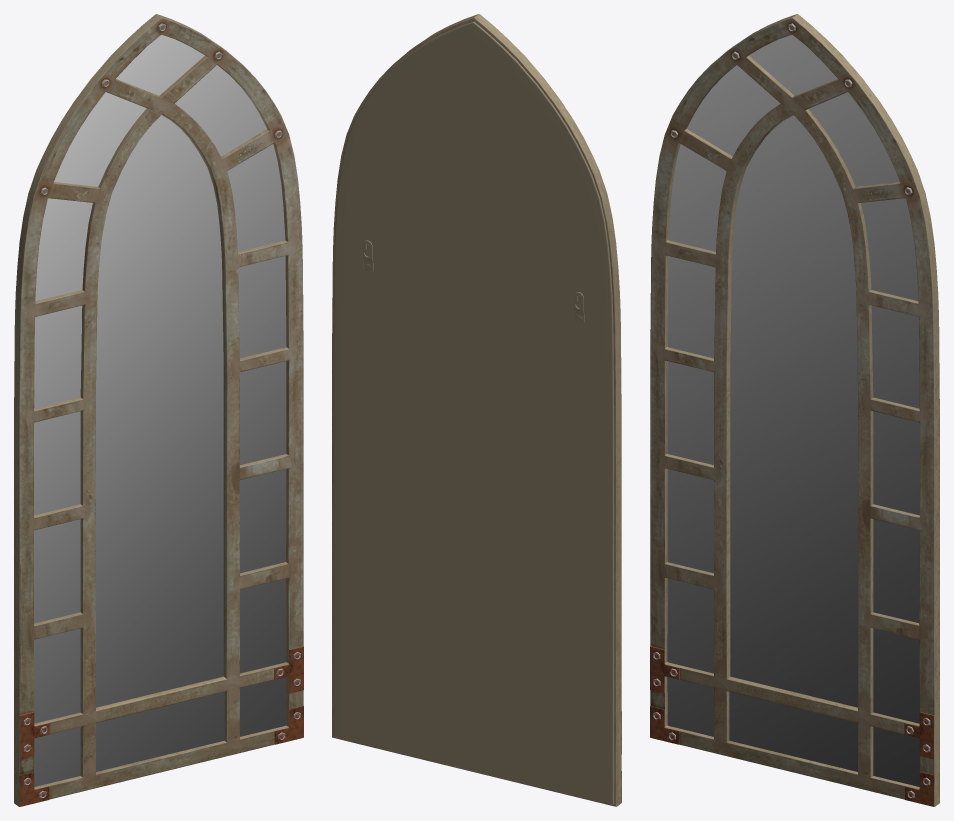
File: mirror_B073WGSN2Q.glb
3 views of the same model, side by side, from view 1: azimuth 30°, elevation 25°; view 2: azimuth 150°, elevation 25°; view 3: azimuth 330°, elevation 25° (orthographic).
Parts seen in each view (by area): view 1: RootNode; view 2: RootNode; view 3: RootNode.
Part boxes in pixels (x1=…): RootNode: x1=14, y1=14, x2=303, y2=806; RootNode: x1=332, y1=14, x2=621, y2=806; RootNode: x1=650, y1=14, x2=939, y2=806.
Bounding box in the file's own units: 0.4635 × 1.17 × 0.0254.
1 material, 1 textured.
